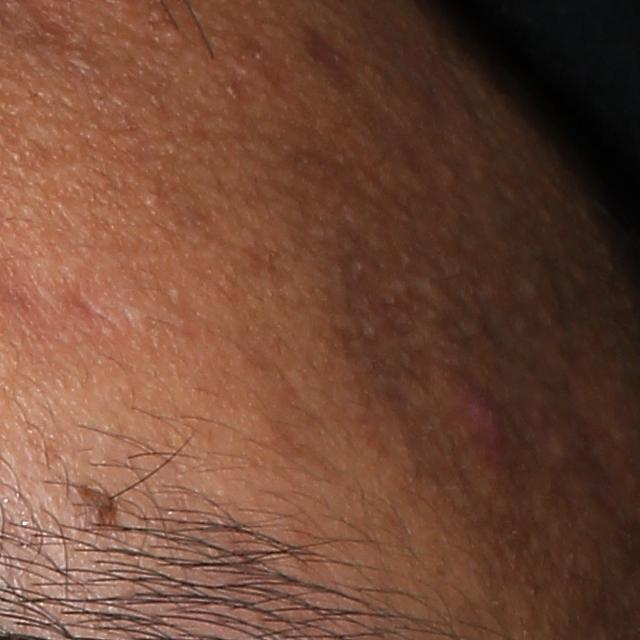nevus: (78, 483, 130, 532)
papule: (455, 368, 502, 454)
